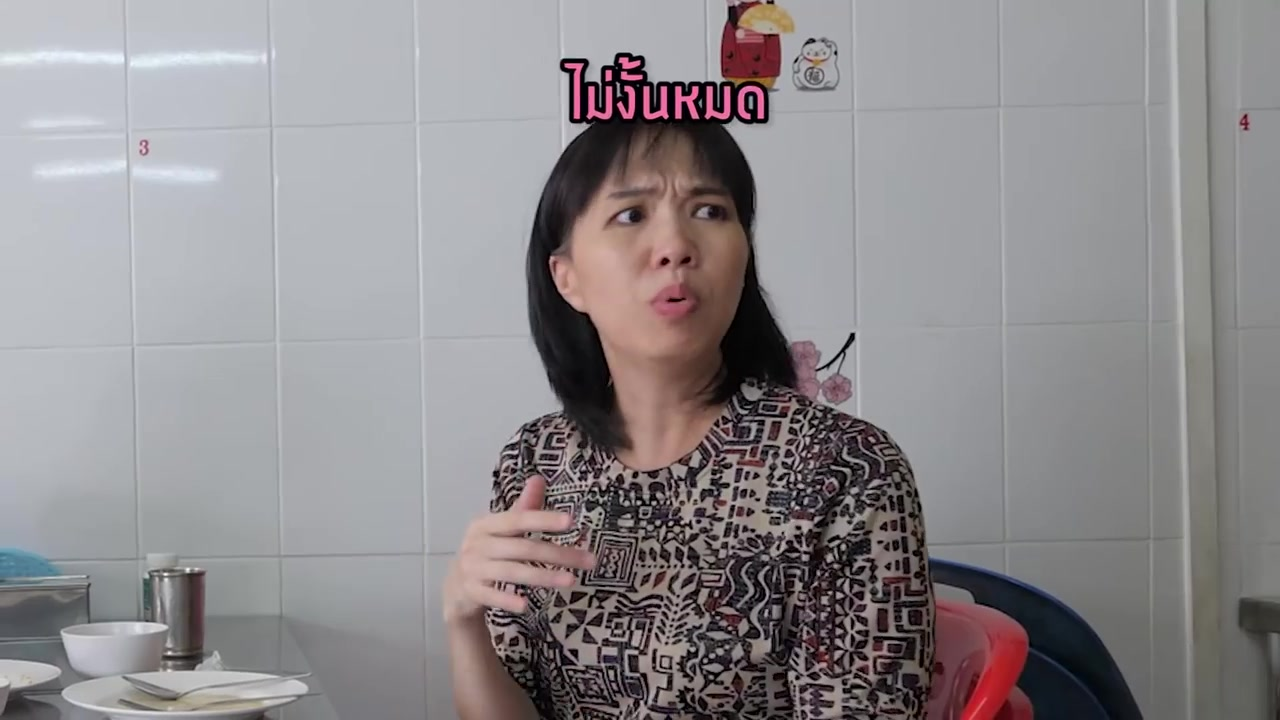text-label: (558, 51, 775, 126)
